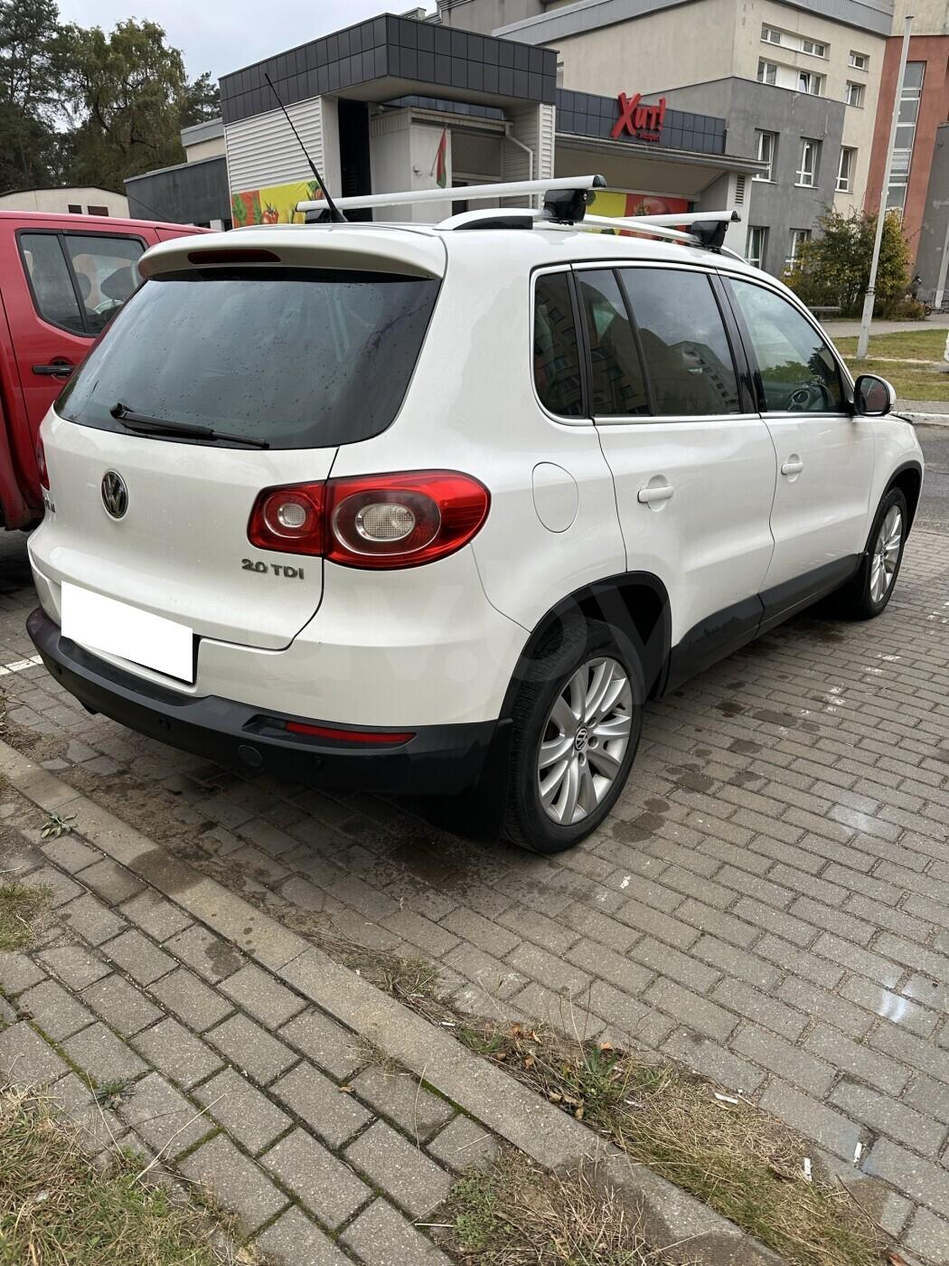Tiguan_2007-2011: (20, 213, 933, 852)
